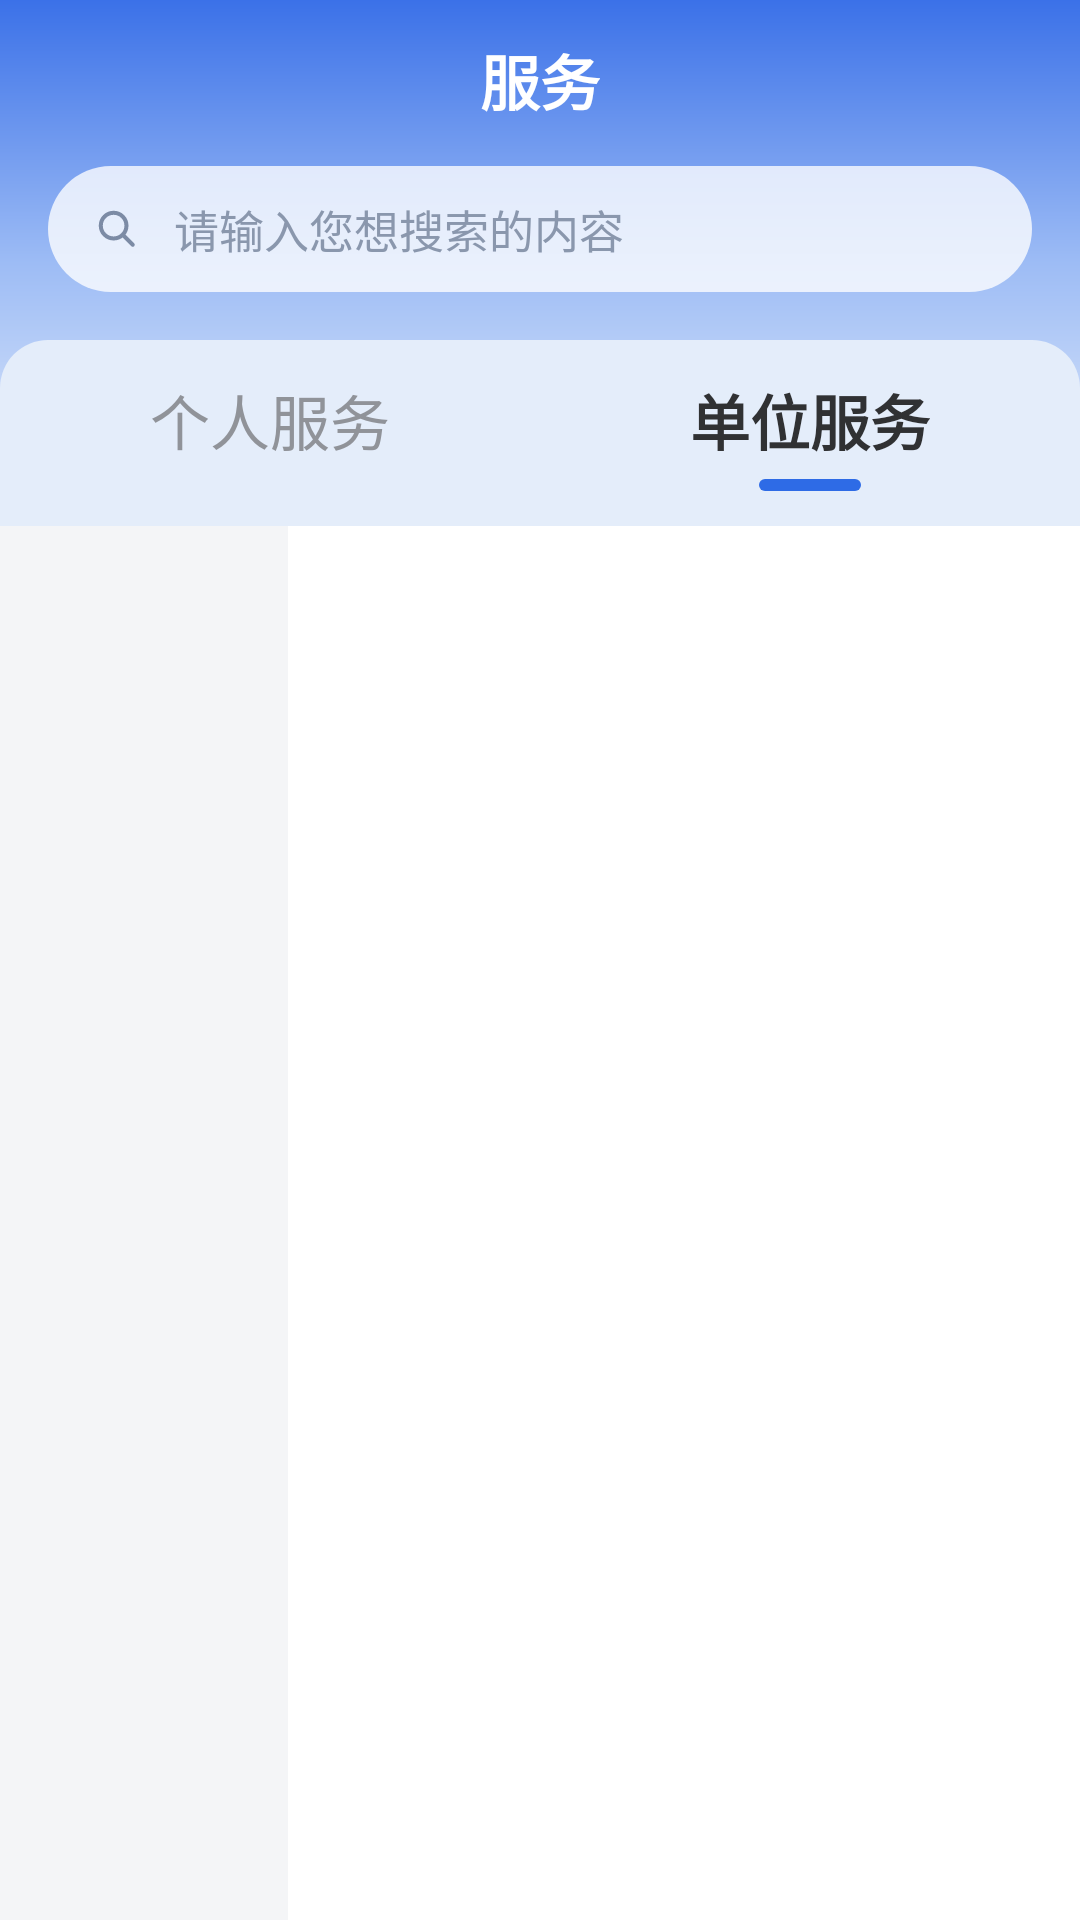

Named icons in this screenshot (1080*1920) and their centers, (x,y):
service search: (116,228)
